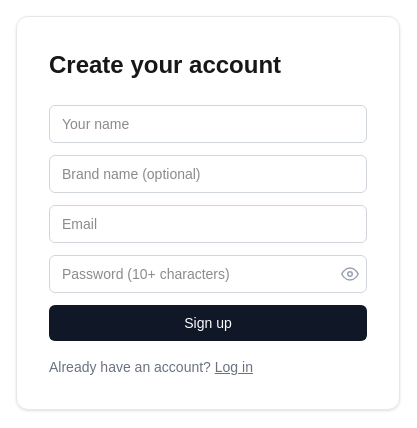
it: SignUpPage validation › submits valid input and shows the check-your-email screen
Type "Nae" into the field labelled "Your name" at (208, 124), box [49, 105, 367, 143]
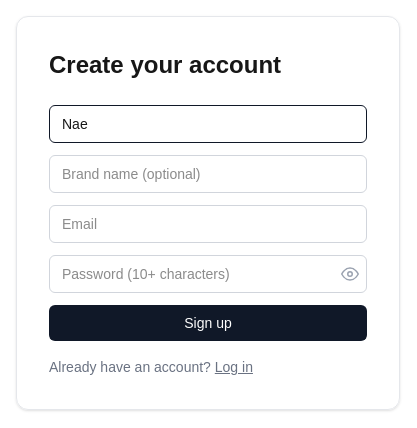
Type "nae@example.com" into the field labelled "Email" at (208, 224), box [49, 205, 367, 243]
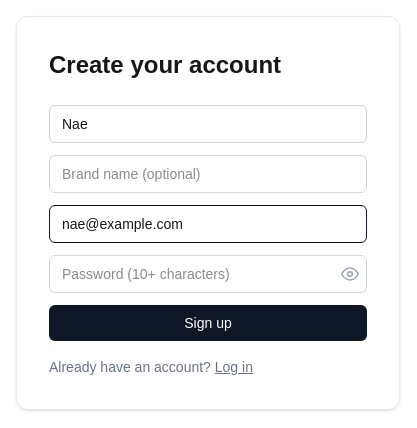
Type "long-enough-pw" into the password field labelled "Password" at (208, 274), box [49, 255, 367, 293]
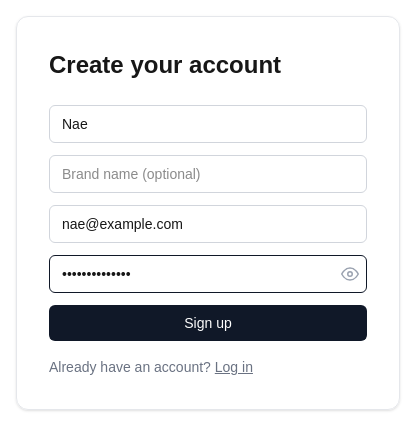
Click the button "Sign up" at (208, 323), box [49, 305, 367, 341]
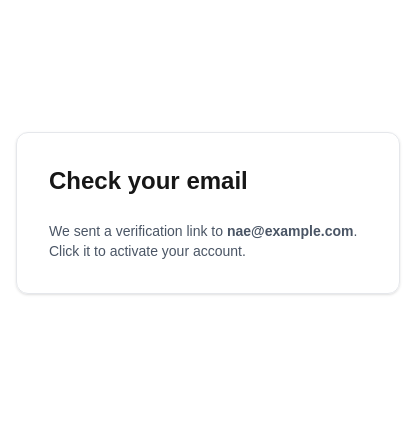
expect the heading "Check your email" is shown: met, box [49, 167, 248, 194]
